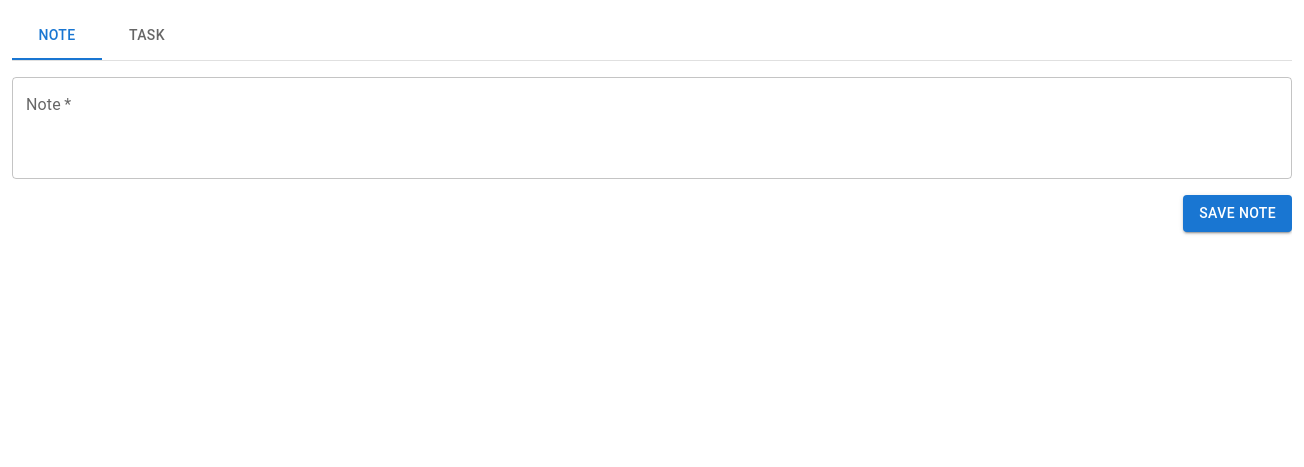
Test: NoteTaskForm › loading state › shows loading state on task submit button during request
Click the tab "Task": (147, 36) [102,12,192,60]
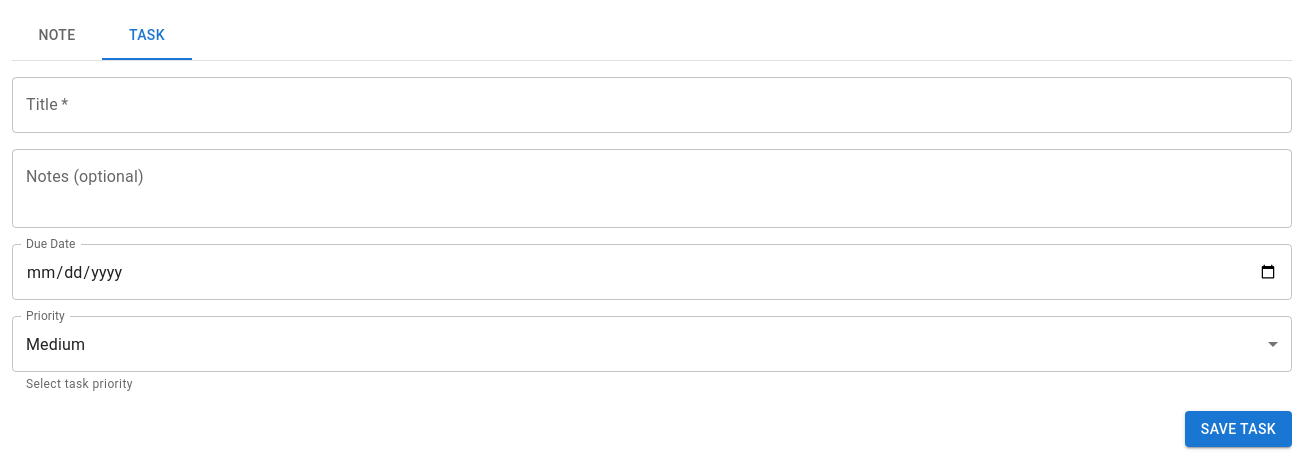
In the field named "Task title": (652, 105) [12,77,1292,133], type "Test task"
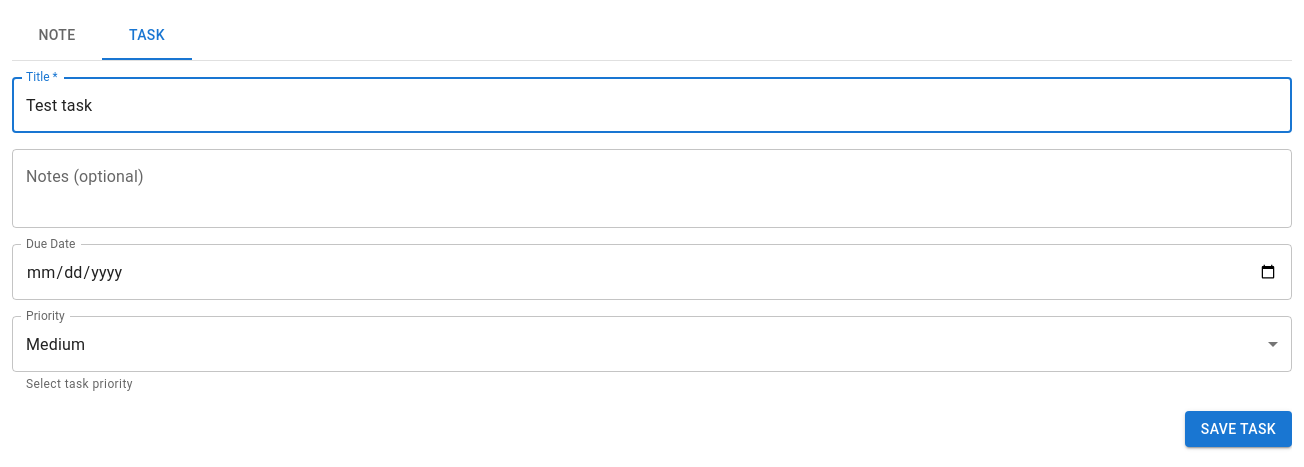
Click the button "Save Task": (1238, 429) [1185,411,1292,447]
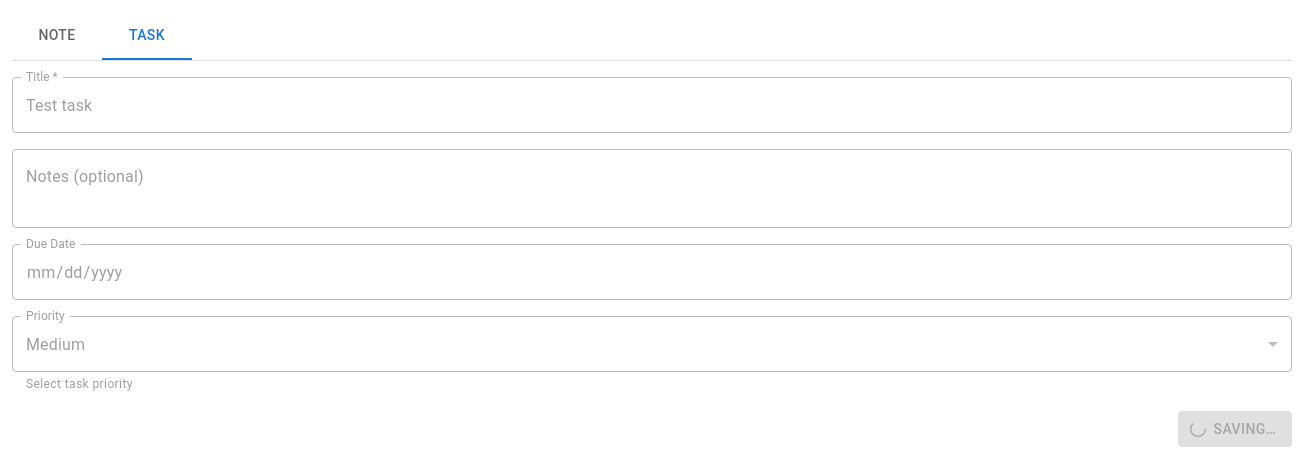
Expected: the button "Saving…" is disabled, [1178,411,1292,447]
